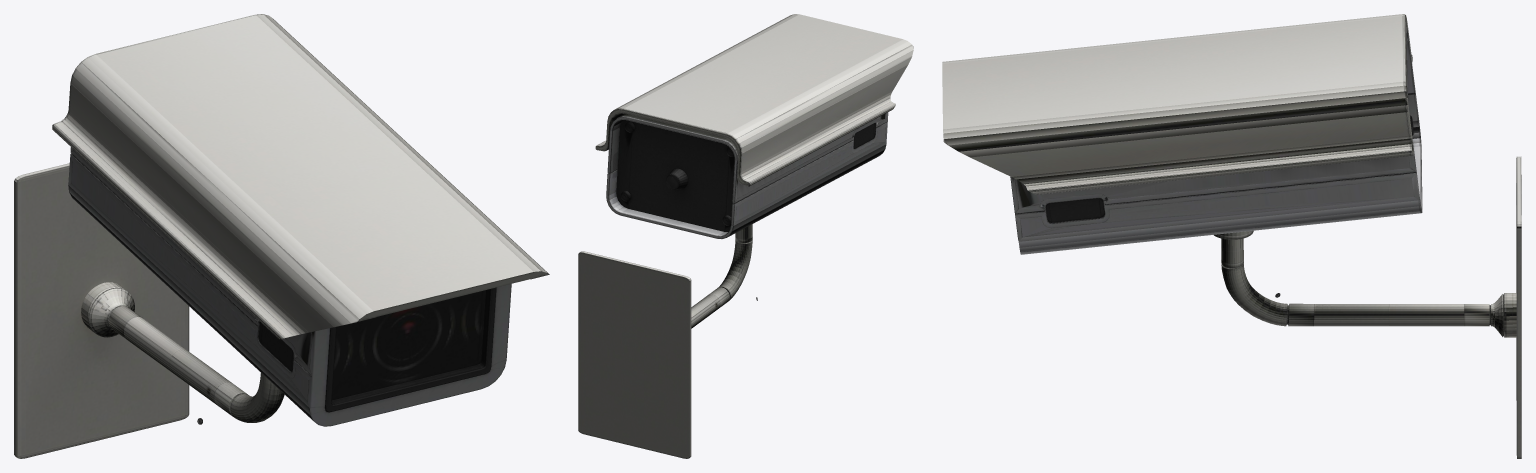
The model's file is camera.obj.
3 renders of one model, left to right at view 1: azimuth 30°, elevation 25°; view 2: azimuth 150°, elevation 25°; view 3: azimuth 270°, elevation 25°, orthographic. The views are drawn at different scales.
Parts seen in each view (by area): view 1: camera; view 2: camera; view 3: camera.
Boxes of the visible parts, left/top/right/bottom form: camera: left=14, top=14, right=549, bottom=458; camera: left=578, top=14, right=913, bottom=458; camera: left=942, top=14, right=1521, bottom=458.
Size of the model in its own units: 12.92 by 23.19 by 32.12.
Materials: 1 (1 with a texture image).
